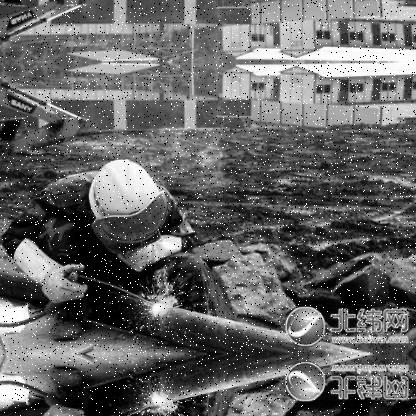Helmet: (86, 160, 174, 258)
